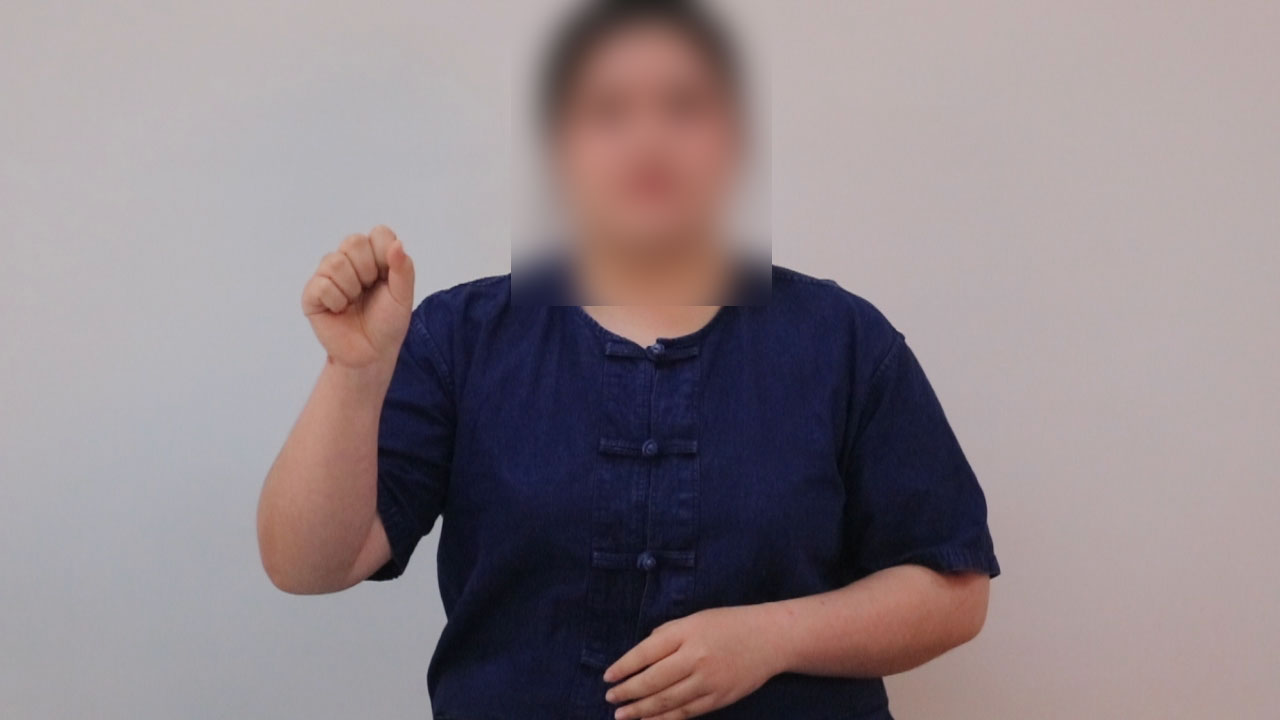sor: (289, 215, 437, 371)
